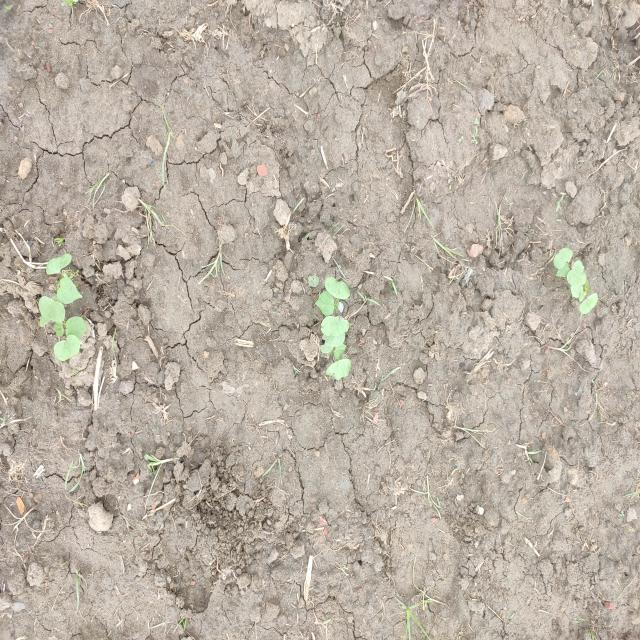seedling_s4: (57, 277, 83, 304), (39, 296, 65, 323), (54, 334, 80, 361), (65, 316, 89, 340), (325, 277, 351, 299), (321, 316, 349, 336), (326, 359, 351, 380), (46, 254, 72, 274), (320, 333, 345, 353), (315, 291, 334, 316), (567, 261, 584, 286), (553, 247, 572, 269), (579, 293, 598, 314), (571, 272, 586, 298), (556, 263, 570, 278), (334, 344, 347, 360), (52, 322, 64, 337), (40, 315, 51, 327), (579, 288, 587, 302), (308, 277, 319, 287), (585, 280, 590, 292), (308, 275, 317, 281)
